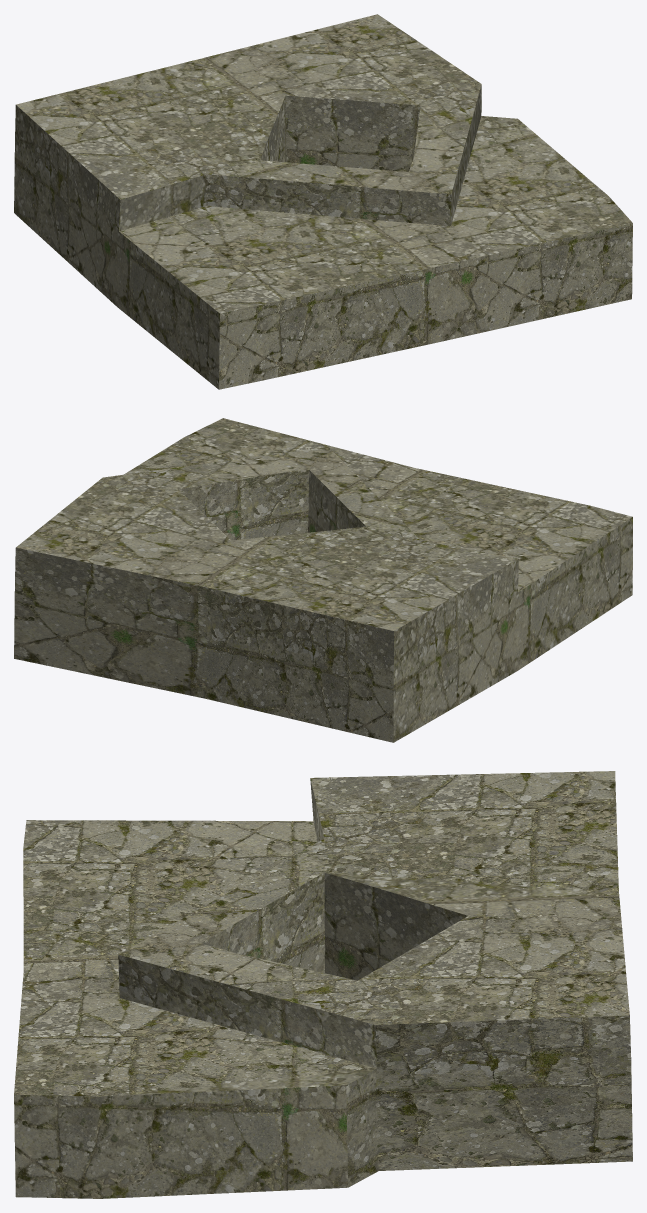
Rendered from SM_Chateaux_03_06.fbx.
The picture shows the model from 3 angles, top to bottom: view 1: azimuth 30°, elevation 25°; view 2: azimuth 150°, elevation 25°; view 3: azimuth 270°, elevation 25°; orthographic projection. The views are drawn at different scales.
Visible parts, largest first — view 1: SM_Chateaux_03_06; view 2: SM_Chateaux_03_06; view 3: SM_Chateaux_03_06.
Boxes of the visible parts, <box> form: SM_Chateaux_03_06: <box>14,14,632,389</box>; SM_Chateaux_03_06: <box>14,418,632,742</box>; SM_Chateaux_03_06: <box>14,771,632,1198</box>.
Bounding box in the file's own units: 914 × 265 × 875.
